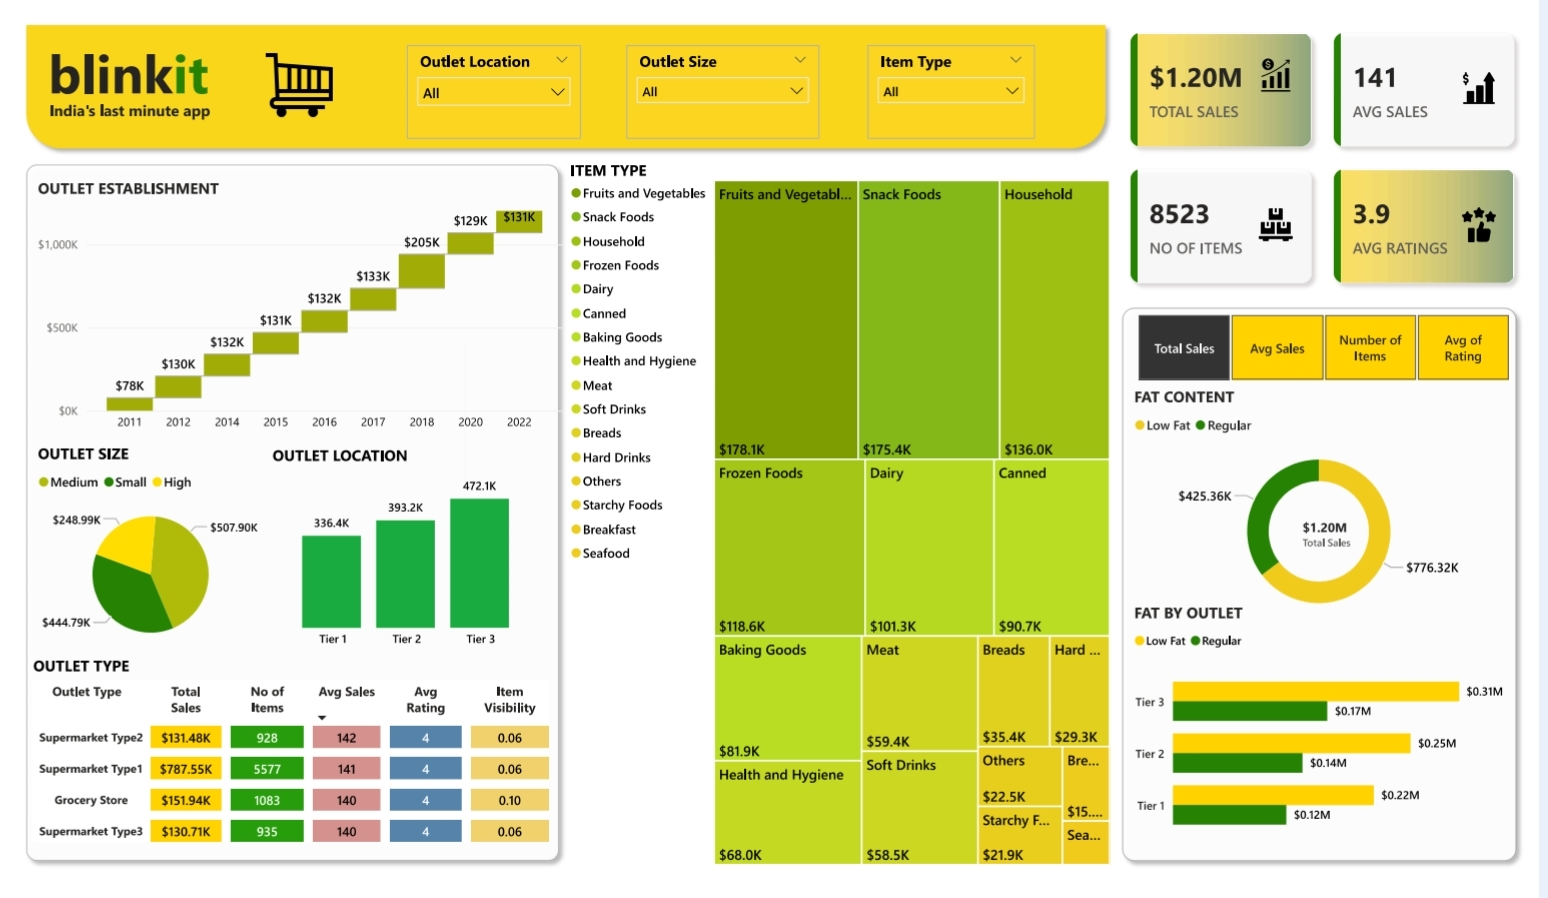

What the dashboard file says about the page in this screenshot:
{"tool":"powerbi","page":{"name":"Final ","canvas":[1600,900],"ordinal":0},"visuals":[{"type":"shape","box":[0,0,1158,148],"z":0},{"type":"textbox","box":[27.4,16.1,195.2,95.2],"z":1000},{"type":"textbox","box":[0,83.3,235.6,46.1],"z":2000},{"type":"cardVisual","fields":{"Data":["BlinkIT Grocery Data.Total Sales","BlinkIT Grocery Data.Avg Sales","BlinkIT Grocery Data.Number of Items","BlinkIT Grocery Data.Avg of Rating"]},"box":[1158.7,0,441.1,299.4],"z":3000},{"type":"shape","box":[1158.7,299.4,434.1,600.6],"z":4000},{"type":"slicer","fields":{"Values":["Metrics.Metrics"]},"box":[1158.7,308.3,441.1,81.5],"z":5000},{"type":"cardVisual","fields":{"Data":["BlinkIT Grocery Data.Total Sales"]},"box":[1341.1,499.6,97.4,92.1],"z":6000},{"type":"clusteredBarChart","title":"FAT BY OUTLET","fields":{"Y":["BlinkIT Grocery Data.Total Sales"],"Category":["BlinkIT Grocery Data.Outlet Location Type"],"Series":["BlinkIT Grocery Data.Item Fat Content"]},"box":[1174.6,618.3,400.4,264],"z":7000},{"type":"shape","box":[455,346.7,33.3,173.3],"z":8000},{"type":"shape","box":[0,148.3,580,751.7],"z":9000},{"type":"pivotTable","title":"OUTLET TYPE","fields":{"Rows":["BlinkIT Grocery Data.Outlet Type"],"Values":["BlinkIT Grocery Data.Total Sales","BlinkIT Grocery Data.Number of Items","BlinkIT Grocery Data.Avg Sales","BlinkIT Grocery Data.Avg of Rating","Avg(BlinkIT Grocery Data.Item Visibility)"]},"box":[11.3,674.2,559.7,225.8],"z":11000},{"type":"slicer","fields":{"Values":["BlinkIT Grocery Data.Outlet Location Type"]},"box":[399.1,31,196.1,98.1],"z":14000},{"type":"slicer","fields":{"Values":["BlinkIT Grocery Data.Outlet Size"]},"box":[645.2,31,206.5,98.1],"z":15000},{"type":"slicer","fields":{"Values":["BlinkIT Grocery Data.Item Type"]},"box":[904.9,31,184.1,98.1],"z":16000},{"type":"image","box":[242.7,31.9,108.1,79.7],"z":23000},{"type":"waterfallChart","title":"OUTLET ESTABLISHMENT","fields":{"Category":["BlinkIT Grocery Data.Outlet Establishment Year"],"Y":["BlinkIT Grocery Data.Total Sales"]},"box":[16,170,564,276],"z":24000},{"type":"pieChart","title":"OUTLET SIZE","fields":{"Category":["BlinkIT Grocery Data.Outlet Size"],"Y":["BlinkIT Grocery Data.Total Sales"]},"box":[16,450,248,228],"z":25000},{"type":"clusteredColumnChart","title":"OUTLET LOCATION","fields":{"Category":["BlinkIT Grocery Data.Outlet Location Type"],"Y":["Sum(BlinkIT Grocery Data.Sales)"]},"box":[264,451.8,294.1,223.2],"z":26000},{"type":"treemap","title":"ITEM TYPE","fields":{"Group":["BlinkIT Grocery Data.Item Type"],"Values":["BlinkIT Grocery Data.Total Sales"]},"box":[579.3,150.6,579.3,749.4],"z":27000},{"type":"donutChart","title":"FAT CONTENT","fields":{"Y":["BlinkIT Grocery Data.Total Sales"],"Category":["BlinkIT Grocery Data.Item Fat Content"]},"box":[1174.6,389.8,400.4,256.9],"z":28000}]}

Visuals, with their boxes on the page's 1600x900 design canvas (x1, y1, x2, y2). These are canvas units, not pixel positions in the 1548x898 screenshot, which may show the page scaled, cropped or inside an application window:
shape: [0, 0, 1158, 148]
textbox: [27, 16, 223, 111]
textbox: [0, 83, 236, 129]
cardVisual - BlinkIT Grocery Data.Total Sales x BlinkIT Grocery Data.Avg Sales: [1159, 0, 1600, 299]
shape: [1159, 299, 1593, 900]
slicer - Metrics.Metrics: [1159, 308, 1600, 390]
cardVisual - BlinkIT Grocery Data.Total Sales: [1341, 500, 1438, 592]
"FAT BY OUTLET" clusteredBarChart: [1175, 618, 1575, 882]
shape: [455, 347, 488, 520]
shape: [0, 148, 580, 900]
"OUTLET TYPE" pivotTable: [11, 674, 571, 900]
slicer - BlinkIT Grocery Data.Outlet Location Type: [399, 31, 595, 129]
slicer - BlinkIT Grocery Data.Outlet Size: [645, 31, 852, 129]
slicer - BlinkIT Grocery Data.Item Type: [905, 31, 1089, 129]
image: [243, 32, 351, 112]
"OUTLET ESTABLISHMENT" waterfallChart: [16, 170, 580, 446]
"OUTLET SIZE" pieChart: [16, 450, 264, 678]
"OUTLET LOCATION" clusteredColumnChart: [264, 452, 558, 675]
"ITEM TYPE" treemap: [579, 151, 1159, 900]
"FAT CONTENT" donutChart: [1175, 390, 1575, 647]
